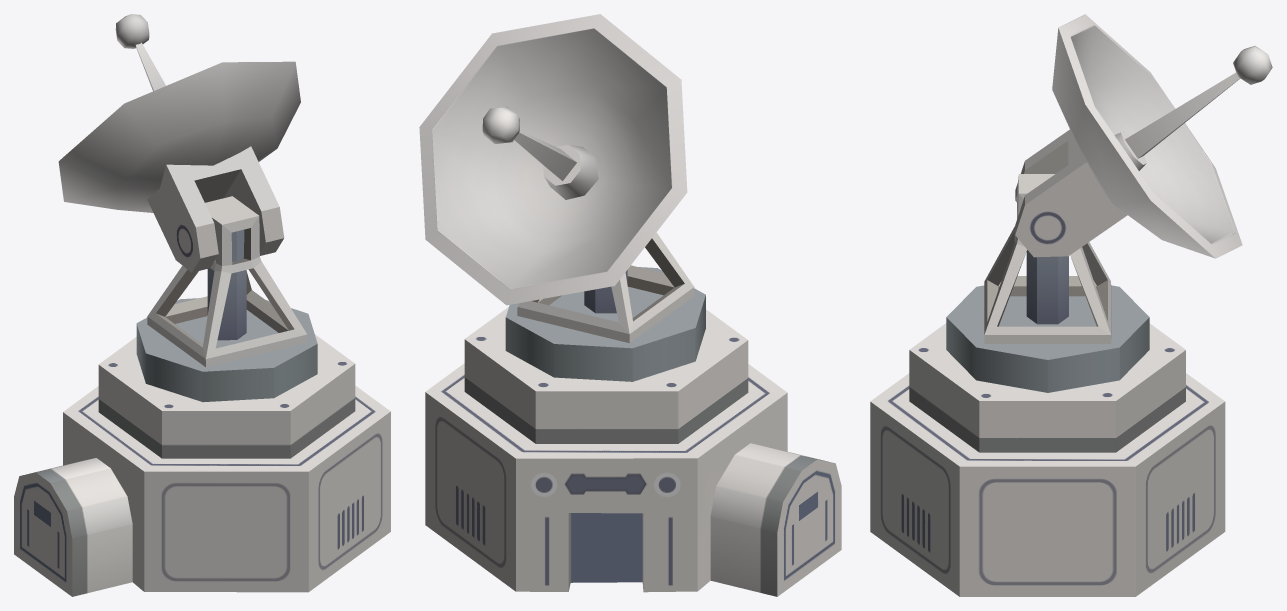
Rendered from JieShouZhan.glb.
3 views of the same model, side by side, from view 1: azimuth 30°, elevation 25°; view 2: azimuth 150°, elevation 25°; view 3: azimuth 270°, elevation 25° (orthographic). The views are drawn at different scales.
Parts seen in each view (by area): view 1: JieShouZhan; view 2: JieShouZhan; view 3: JieShouZhan.
Boxes of the visible parts, x1,y1,x2,y2 form: JieShouZhan: (14, 14, 390, 596); JieShouZhan: (419, 14, 841, 596); JieShouZhan: (870, 14, 1272, 596).
Bounding box in the file's own units: 39.95 × 57.97 × 41.89.
1 material, 1 textured.
